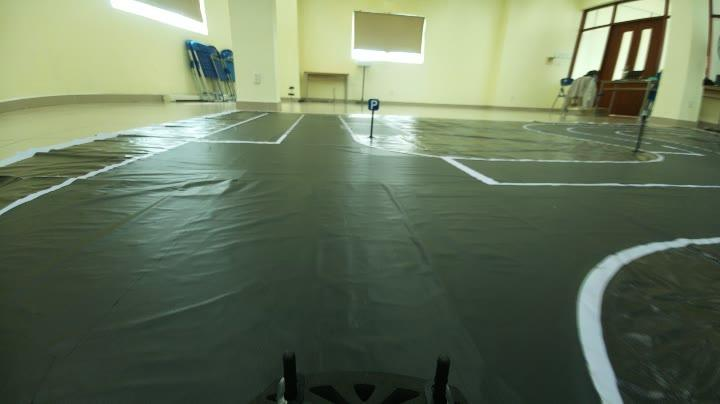parking: (362, 96, 381, 112)
